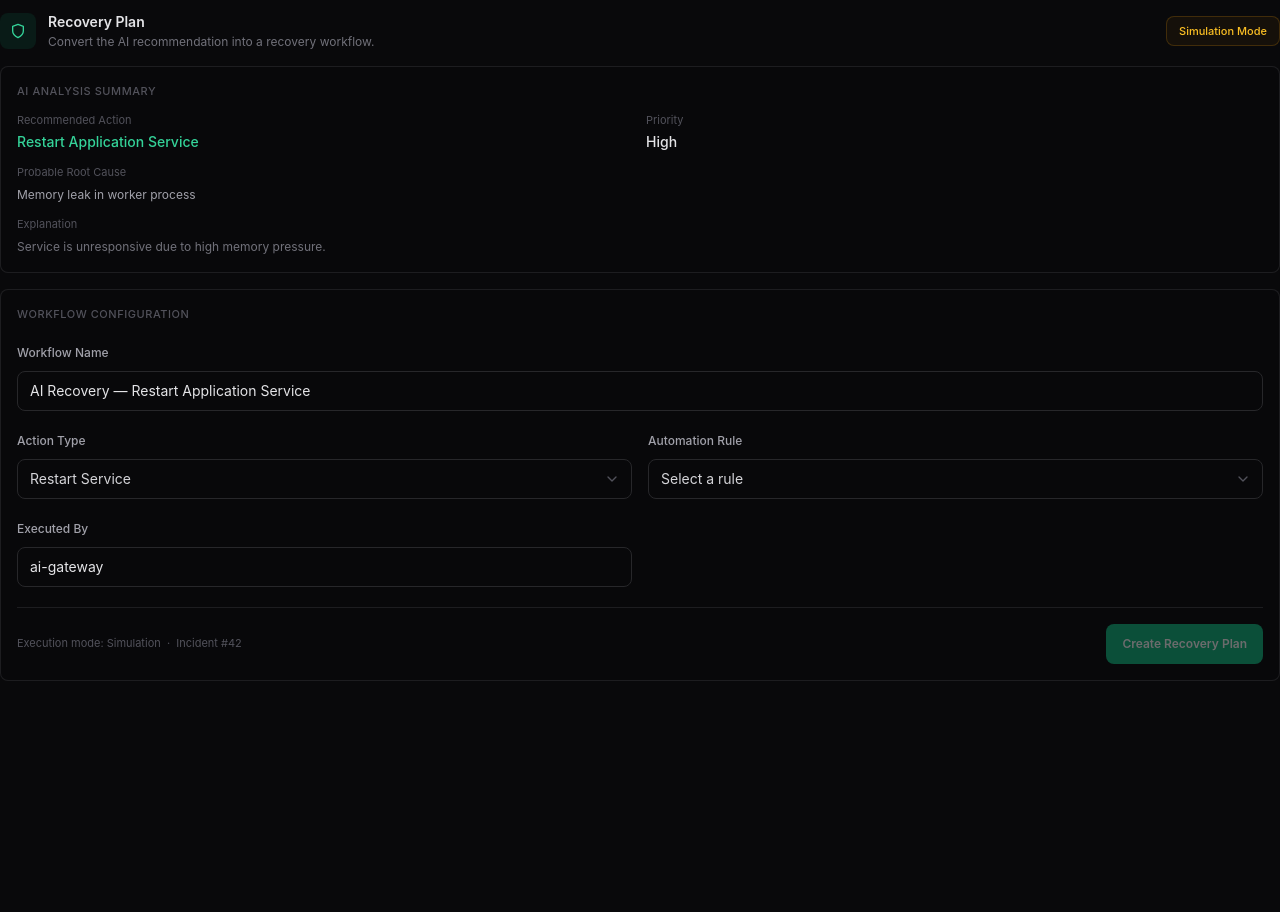
AIRecoveryPanel › Create Recovery Plan button is enabled after selecting a rule
Select "#1 — High CPU Rule" in the dropdown below "Automation Rule". click: (956, 478)
box: [648, 458, 1263, 498]
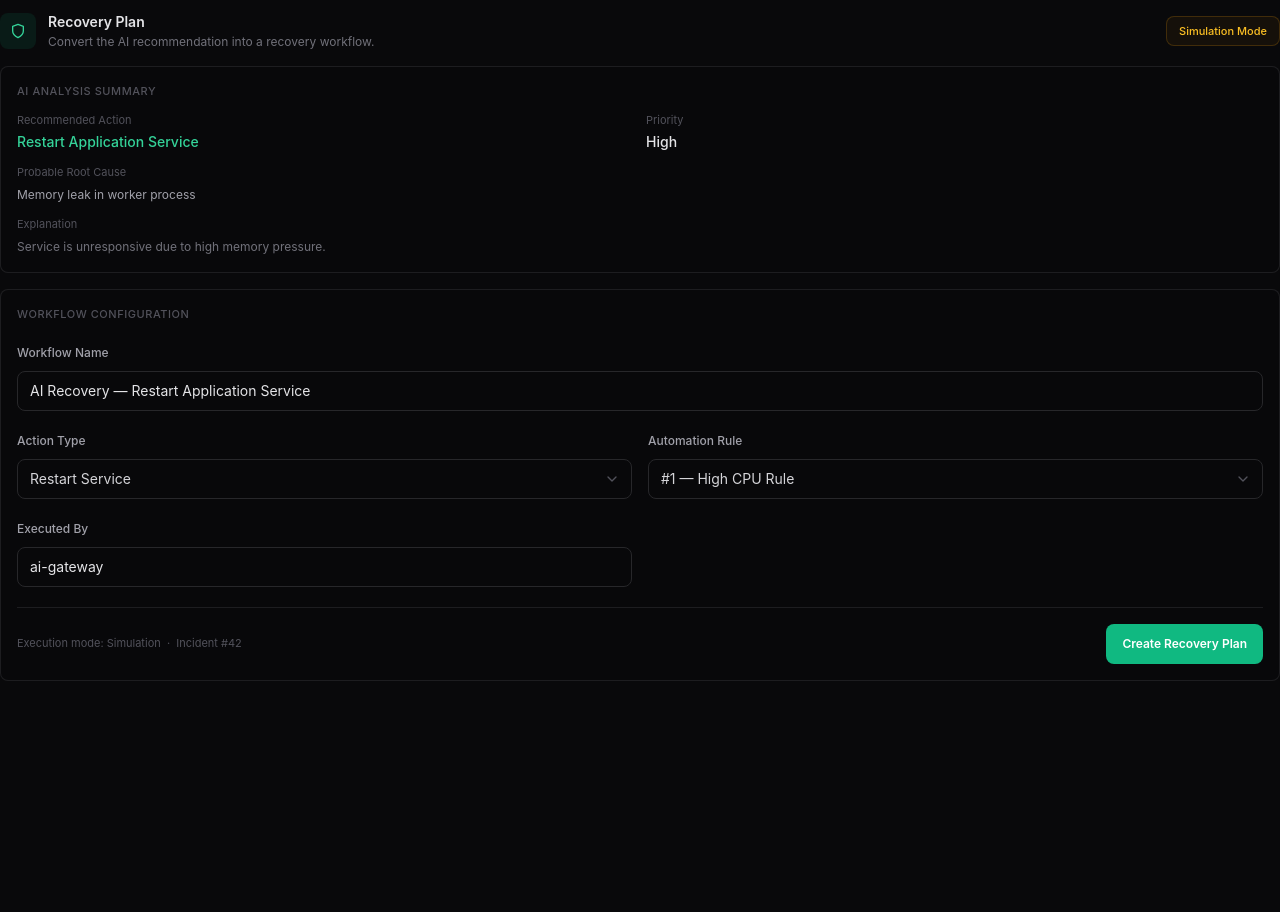
Check: the button "Create Recovery Plan" is enabled, box [1106, 624, 1263, 664]
